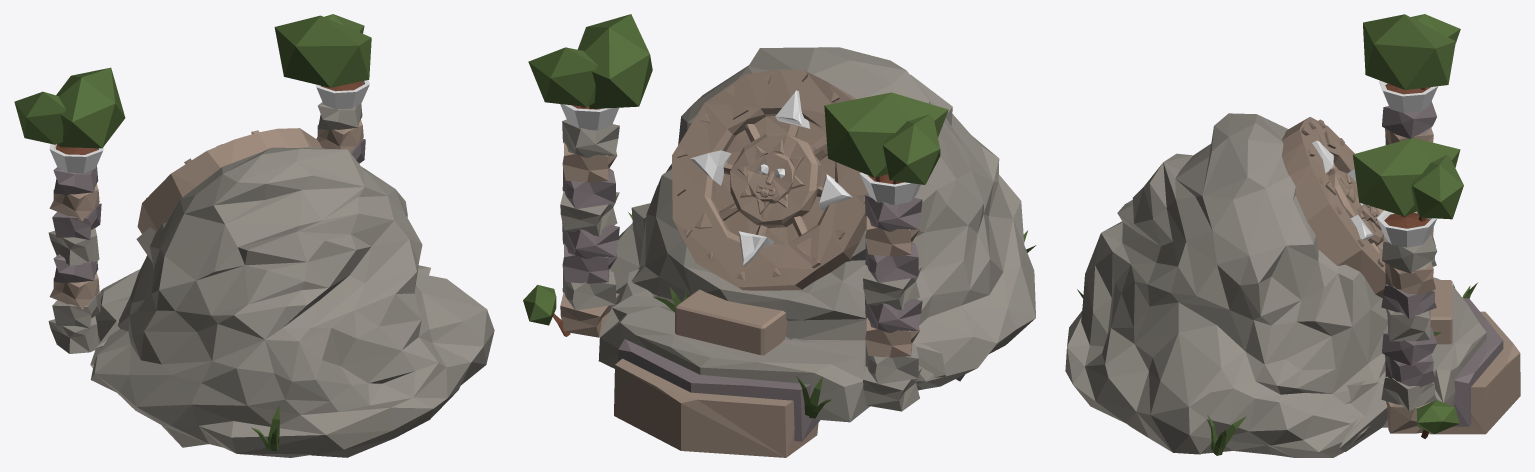
Rendered from solar calendar.fbx.
3 views of the same model, side by side, from view 1: azimuth 30°, elevation 25°; view 2: azimuth 150°, elevation 25°; view 3: azimuth 270°, elevation 25° (orthographic). The views are drawn at different scales.
Visible parts, largest first — view 1: solar_calendar; view 2: solar_calendar; view 3: solar_calendar.
Part boxes in pixels (bbox=[...]): solar_calendar: bbox=[14, 14, 494, 457]; solar_calendar: bbox=[523, 14, 1036, 457]; solar_calendar: bbox=[1065, 14, 1520, 457].
Size of the model in its own units: 253 by 210 by 262.
